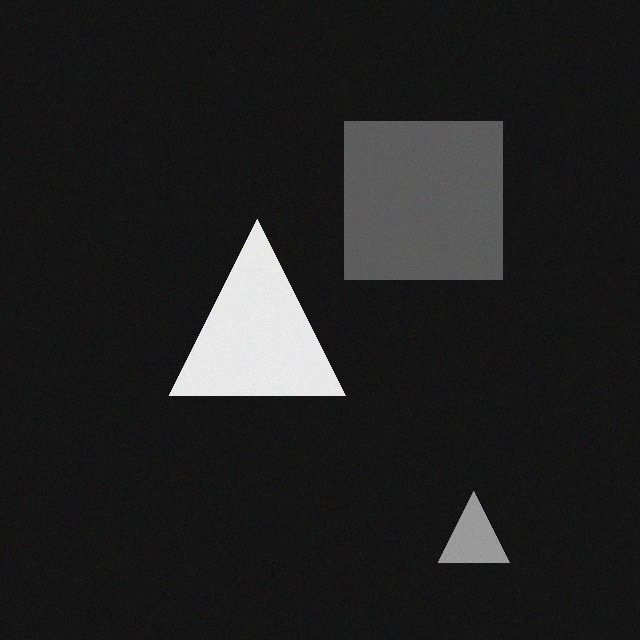square: (350, 121, 508, 279)
triangle: (175, 219, 351, 395), (444, 491, 515, 562)
